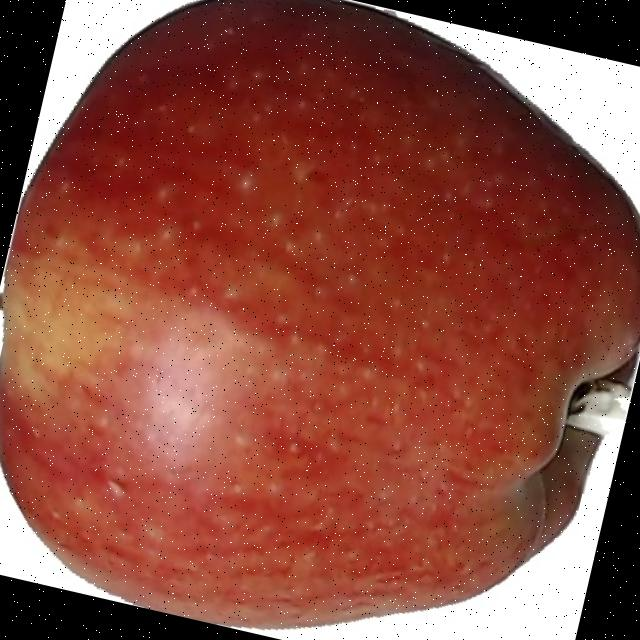apple: (0, 0, 640, 627)
